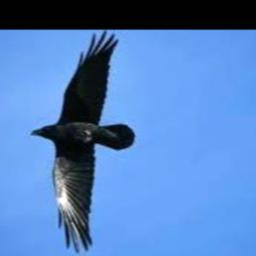Crow: (30, 30, 136, 252)
